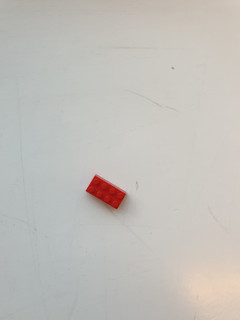2x4 red: (84, 173, 130, 213)
